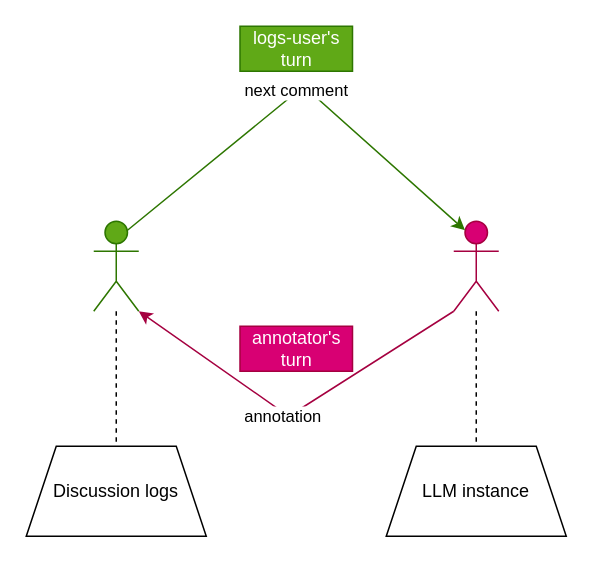
Some shapes in this 593 by 563 pixel diagram are drawn without their labels. The shapes that lost their labels are listed below. From the top down, each one's box as (x1, y1, x2, y2) in pixels, then its label:
(92, 220, 139, 311): logs-user
(452, 220, 499, 311): annotator
